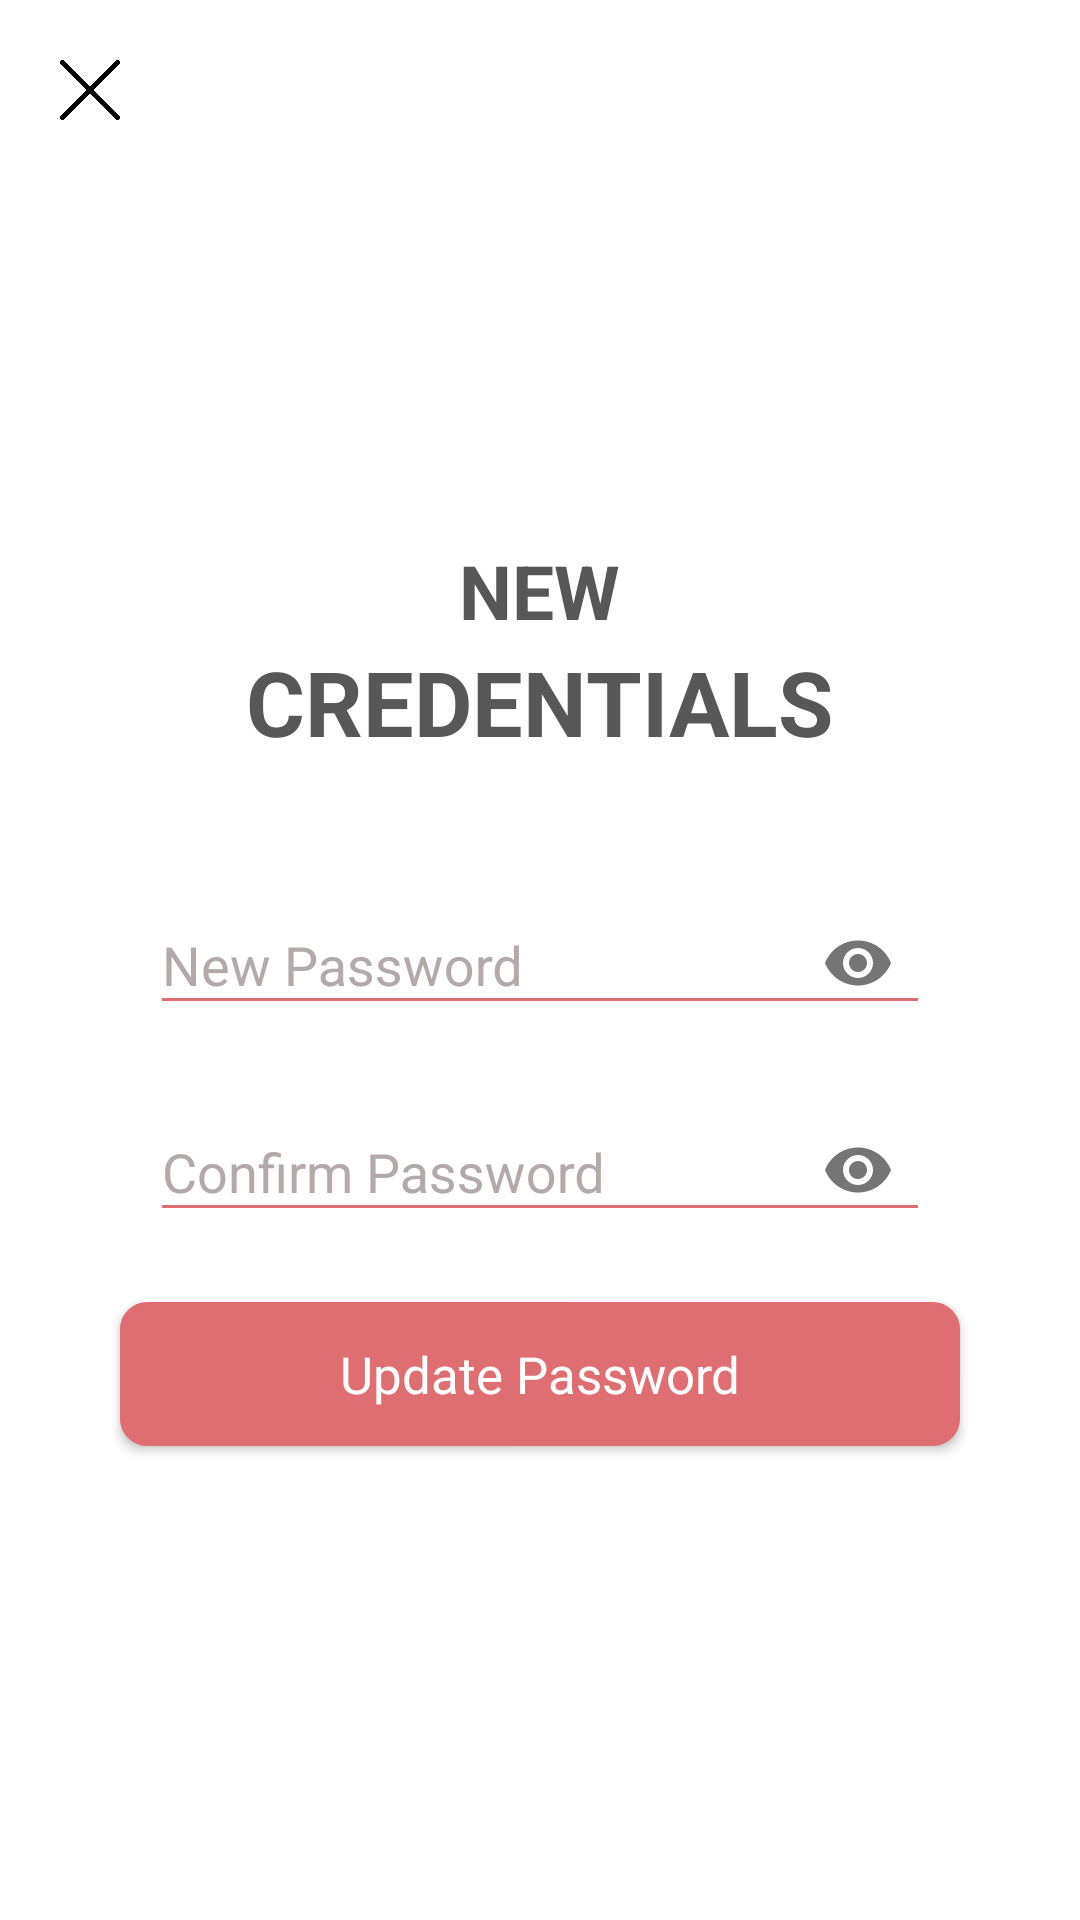

Screen size 1080 × 1920. Icon name, then its box in pixels as (x1, y1, x2, y2):
cancel: (60, 60, 120, 120)
